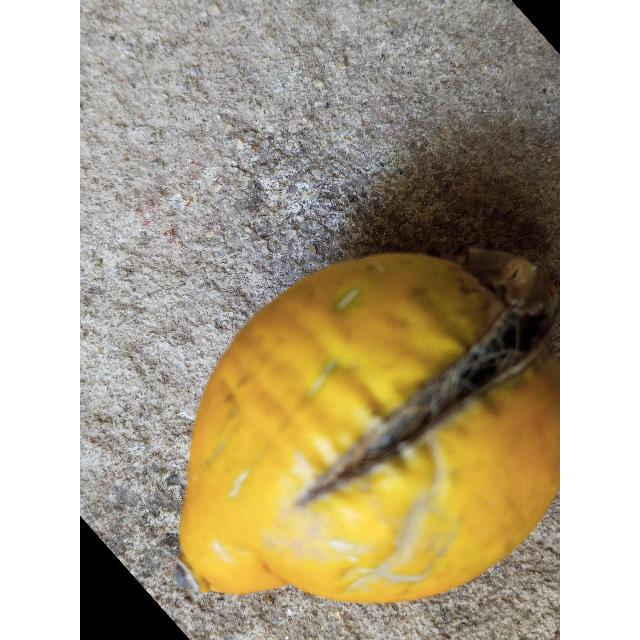damaged: (180, 253, 559, 603)
